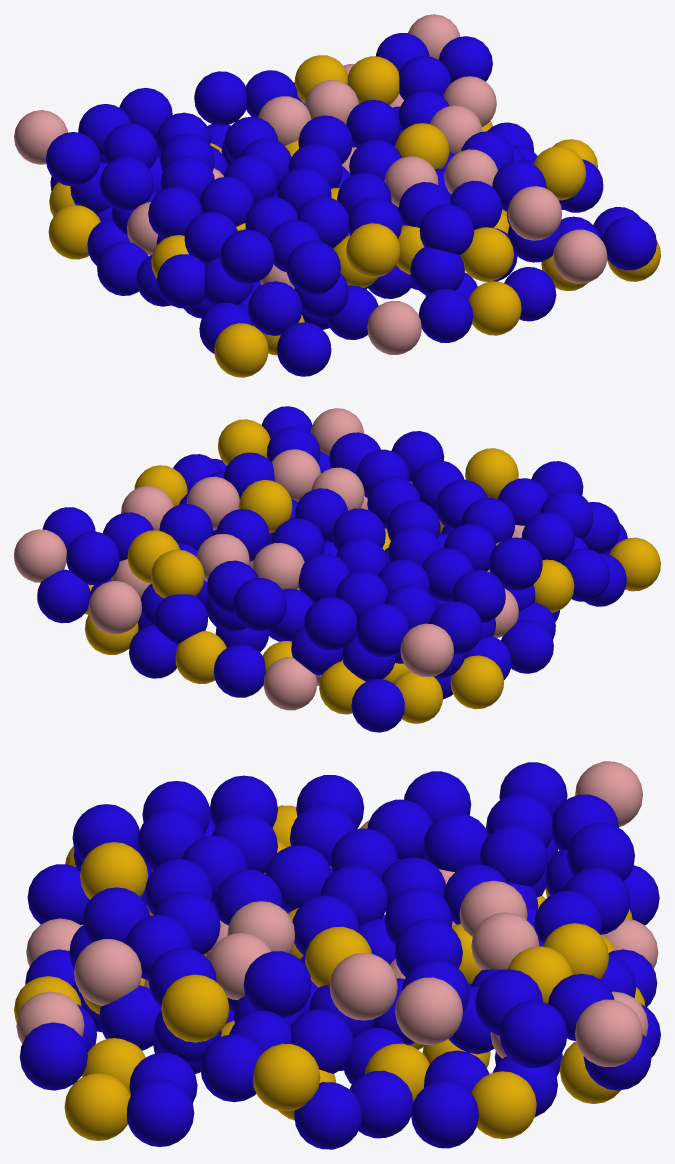
File: Ballpit_HP.fbx
3 renders of one model, top to bottom at view 1: azimuth 30°, elevation 25°; view 2: azimuth 150°, elevation 25°; view 3: azimuth 270°, elevation 25°, orthographic. The views are drawn at different scales.
Visible parts, largest first — view 1: ballpit_HP; view 2: ballpit_HP; view 3: ballpit_HP.
Part boxes in pixels (<box>): ballpit_HP: <box>14,14,660,377</box>; ballpit_HP: <box>14,406,660,732</box>; ballpit_HP: <box>14,761,660,1149</box>.
Size of the model in its own units: 234 by 57.2 by 229.
